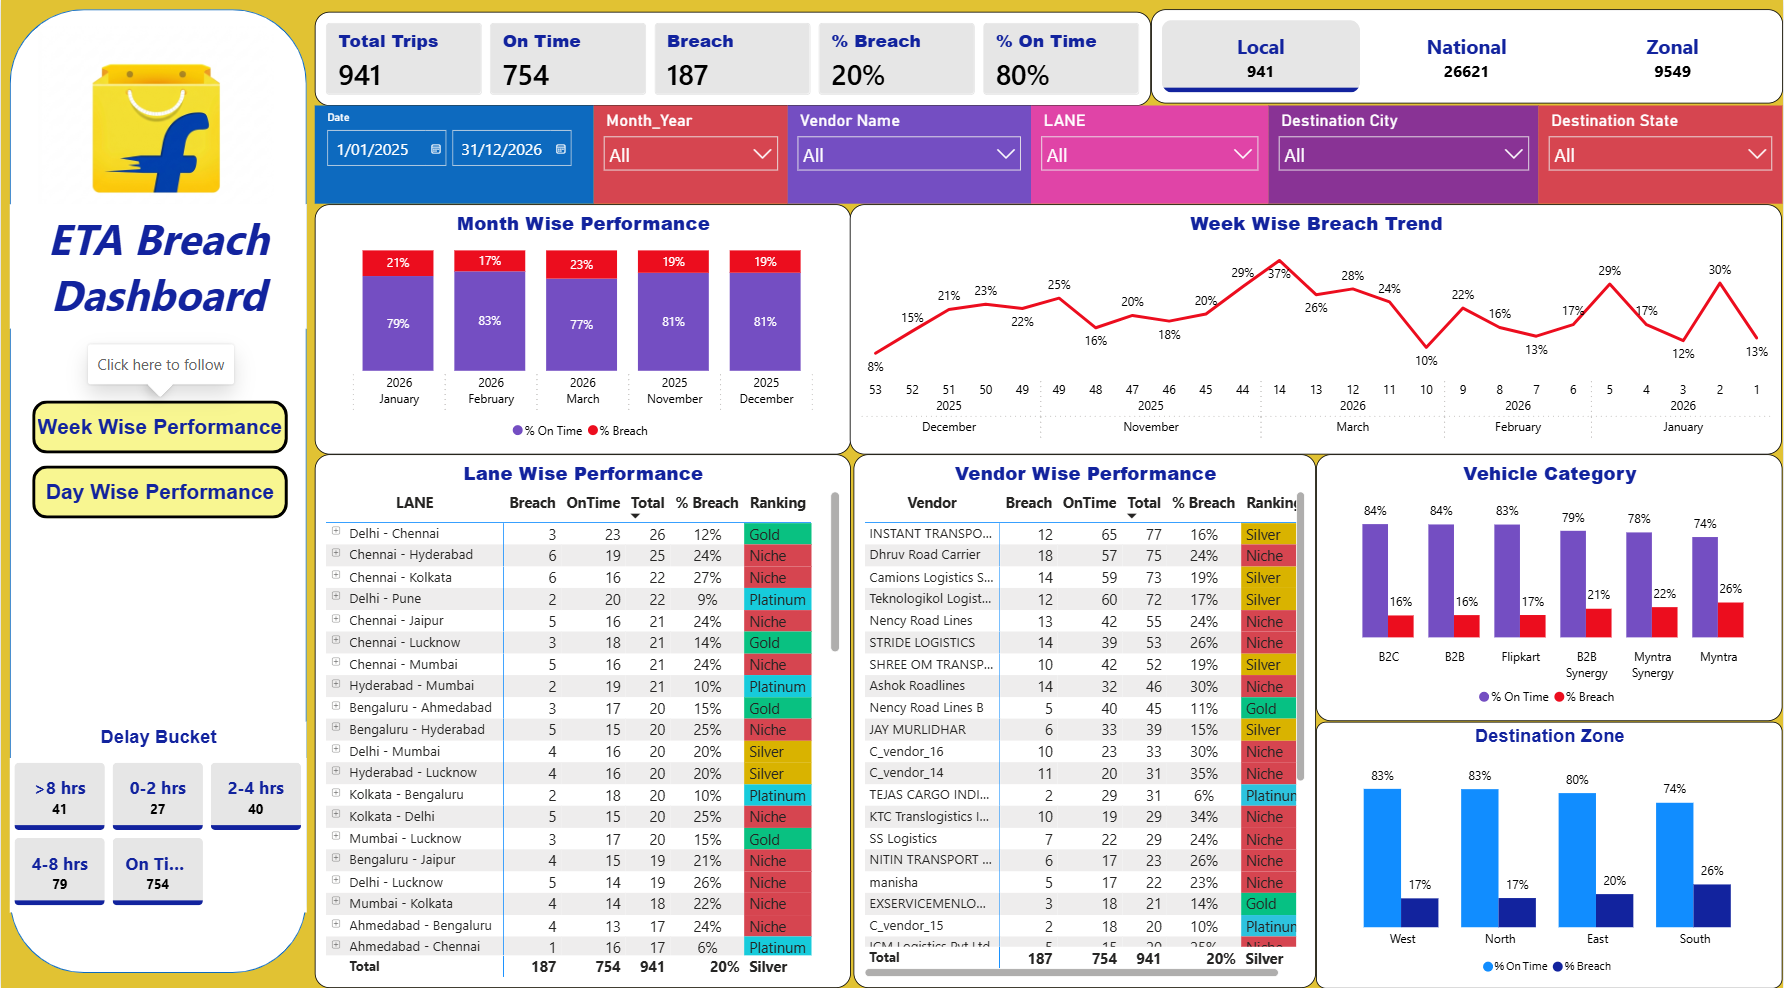

Layout of this report page (visuals, bound fields, positions):
{"tool":"powerbi","page":{"name":"ETA Breach ","canvas":[1800,1000],"ordinal":0},"visuals":[{"type":"cardVisual","fields":{"Data":["All Measures.Total Trips","All Measures.OnTime Count","All Measures.Breach count","All Measures.% Breach","All Measures.% On Time"]},"box":[316.7,13.4,844.5,95.5],"z":0},{"type":"pivotTable","title":"Vendor Wise Performance","fields":{"Values":["All Measures.Breach count","All Measures.OnTime Count","CountNonNull(ETA Raw Data.Trip ID)","All Measures.% Breach","All Measures.Ranking"],"Rows":["ETA Raw Data.Vendor "]},"box":[861.3,460.8,467.5,539.5],"z":1000},{"type":"pivotTable","title":"Lane Wise Performance","fields":{"Values":["All Measures.Breach count","All Measures.OnTime Count","CountNonNull(ETA Raw Data.Trip ID)","All Measures.% Breach","All Measures.Ranking"],"Rows":["ETA Raw Data.lane -1","ETA Raw Data.Vendor "]},"box":[316.7,460.8,541.2,539.5],"z":2000},{"type":"columnChart","title":"Month Wise Performance","fields":{"Category":["Calendar.Date.Variation.Date Hierarchy.Month","Calendar.Date.Variation.Date Hierarchy.Year"],"Y":["All Measures.% On Time","All Measures.% Breach"]},"box":[316.7,207.8,541.2,253],"z":3000},{"type":"shape","box":[8.4,11.7,299.9,973.5],"z":4000},{"type":"image","box":[0,28.5,313.3,237.9],"z":5000},{"type":"actionButton","box":[31.8,407.2,258,53.6],"z":6000},{"type":"textbox","box":[8.4,207.8,299.9,125.7],"z":7000},{"type":"advancedSlicerVisual","title":"Zone Performance","fields":{"Label":["CountNonNull(ETA Raw Data.Trip ID)"],"Values":["ETA Raw Data.LZN"]},"box":[1161.2,11.7,638.4,95.5],"z":8000},{"type":"advancedSlicerVisual","title":"Zone Performance","fields":{"Label":["CountNonNull(ETA Raw Data.Trip ID)"],"Values":["ETA Raw Data.Delay Bucket"]},"box":[8.4,767.4,299.9,155.8],"z":9000},{"type":"slicer","title":"Zone Performance","fields":{"Values":["ETA Raw Data.Vendor Name"]},"box":[794.2,108.9,246.3,98.9],"z":10000},{"type":"slicer","title":"Zone Performance","fields":{"Values":["ETA Raw Data.lane -1"]},"box":[1040.6,108.9,239.6,98.9],"z":11000},{"type":"slicer","title":"Zone Performance","fields":{"Values":["ETA Raw Data.Destination"]},"box":[1280.2,108.9,273.1,98.9],"z":12000},{"type":"slicer","title":"Zone Performance","fields":{"Values":["ETA Raw Data.Month_Year"]},"box":[598.2,108.9,196,98.9],"z":13000},{"type":"lineChart","title":"Week Wise Breach Trend","fields":{"Category":["Calendar.Date.Variation.Date Hierarchy.Month","Calendar.Date.Variation.Date Hierarchy.Year","ETA Raw Data.Week Number"],"Y":["All Measures.% Breach"]},"box":[857.9,207.8,941.7,253],"z":14000},{"type":"clusteredColumnChart","title":"Destination Zone","fields":{"Category":["ETA Raw Data.Destination Zone"],"Y":["All Measures.% On Time","All Measures.% Breach"]},"box":[1328.8,730.6,470.8,269.8],"z":15000},{"type":"slicer","title":"Zone Performance","fields":{"Values":["Calendar.Date"]},"box":[316.7,108.9,281.5,98.9],"z":16000},{"type":"slicer","title":"Zone Performance","fields":{"Values":["ETA Raw Data.Destination State"]},"box":[1553.3,108.9,246.3,98.9],"z":17000},{"type":"clusteredColumnChart","title":"Vehicle Category","fields":{"Category":["ETA Raw Data.Vehicle Category"],"Y":["All Measures.% On Time","All Measures.% Breach"]},"box":[1328.8,460.8,470.8,269.8],"z":18000},{"type":"textbox","box":[10.1,730.6,298.3,36.9],"z":19000},{"type":"actionButton","box":[31.8,472.5,258,53.6],"z":20000}]}

Visuals, with their boxes in screenshot pixels (x1, y1, x2, y2), scaled from the page's 1800x1000 canvas onto the 1784x988 screenshot:
cardVisual - All Measures.Total Trips x All Measures.OnTime Count: locate(314, 13, 1151, 108)
"Vendor Wise Performance" pivotTable: locate(854, 455, 1317, 987)
"Lane Wise Performance" pivotTable: locate(314, 455, 850, 987)
"Month Wise Performance" columnChart: locate(314, 205, 850, 455)
shape: locate(8, 12, 306, 973)
image: locate(0, 28, 311, 263)
actionButton: locate(32, 402, 287, 455)
textbox: locate(8, 205, 306, 329)
"Zone Performance" advancedSlicerVisual: locate(1151, 12, 1783, 106)
"Zone Performance" advancedSlicerVisual: locate(8, 758, 306, 912)
"Zone Performance" slicer: locate(787, 108, 1031, 205)
"Zone Performance" slicer: locate(1031, 108, 1269, 205)
"Zone Performance" slicer: locate(1269, 108, 1539, 205)
"Zone Performance" slicer: locate(593, 108, 787, 205)
"Week Wise Breach Trend" lineChart: locate(850, 205, 1783, 455)
"Destination Zone" clusteredColumnChart: locate(1317, 722, 1783, 987)
"Zone Performance" slicer: locate(314, 108, 593, 205)
"Zone Performance" slicer: locate(1539, 108, 1783, 205)
"Vehicle Category" clusteredColumnChart: locate(1317, 455, 1783, 722)
textbox: locate(10, 722, 306, 758)
actionButton: locate(32, 467, 287, 520)
